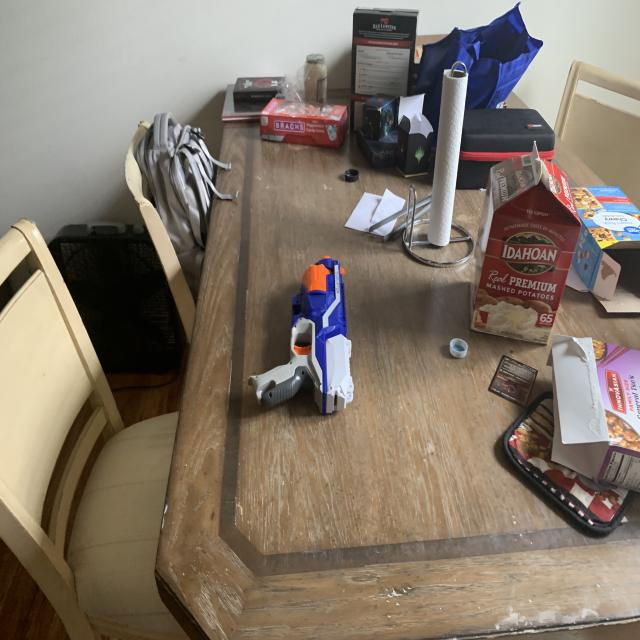nerf-maverik: (244, 244, 360, 436)
